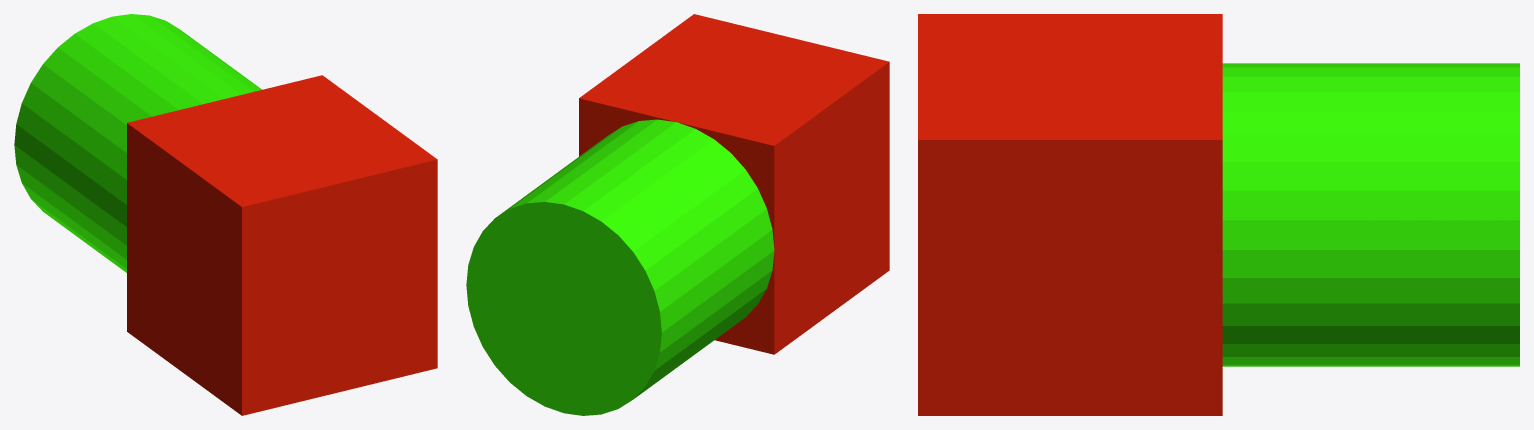
File: rondPoint.fbx
The picture shows the model from 3 angles, left to right: view 1: azimuth 30°, elevation 25°; view 2: azimuth 150°, elevation 25°; view 3: azimuth 270°, elevation 25°; orthographic projection. The views are drawn at different scales.
Parts seen in each view (by area): view 1: Cube; view 2: Cube; view 3: Cube.
Boxes of the visible parts, left/top/right/bottom form: Cube: left=14, top=14, right=437, bottom=415; Cube: left=466, top=14, right=889, bottom=415; Cube: left=918, top=14, right=1519, bottom=415.
Bounding box in the file's own units: 98 × 100 × 198.
